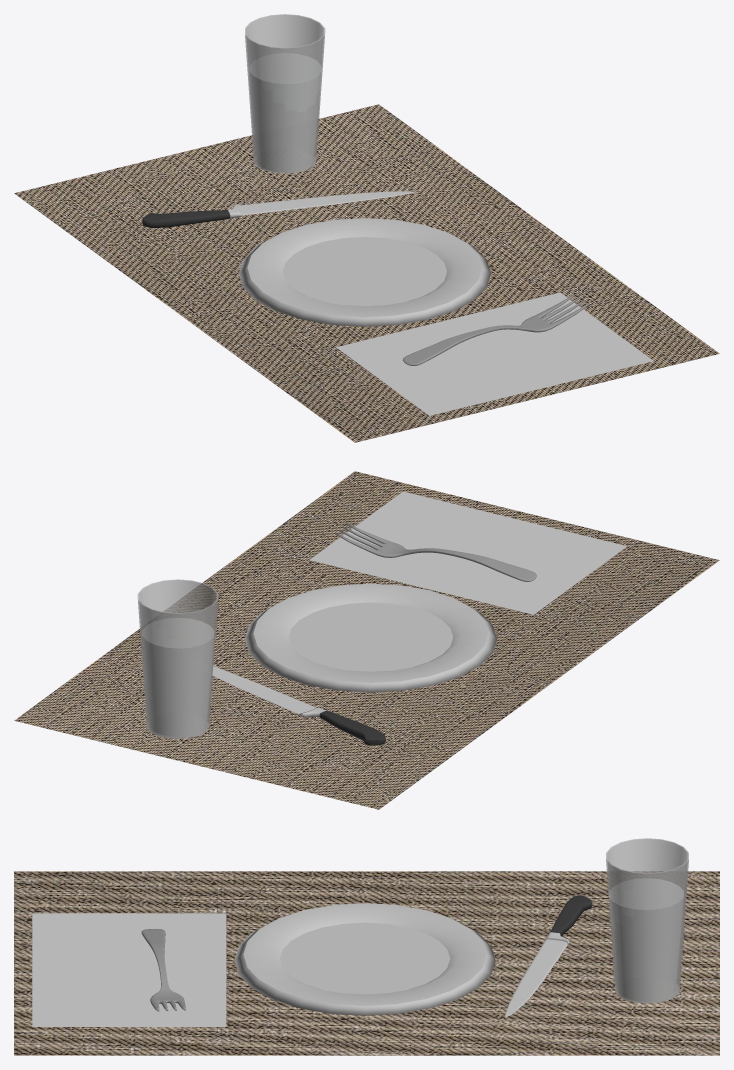
File: stolovie pribori.fbx
3 renders of one model, top to bottom at view 1: azimuth 30°, elevation 25°; view 2: azimuth 150°, elevation 25°; view 3: azimuth 270°, elevation 25°, orthographic. The views are drawn at different scales.
Parts seen in each view (by area): view 1: Mat, Dish, Towel, Glass, Knife, Fork; view 2: Mat, Dish, Towel, Glass, Knife, Fork; view 3: Mat, Dish, Towel, Glass, Knife, Fork.
Boxes of the visible parts, x1,y1,x2,y2 form: Mat: (14,104,719,442); Dish: (239,218,490,326); Towel: (336,292,653,415); Glass: (245,14,325,173); Knife: (142,191,415,227); Fork: (403,294,589,365); Mat: (14,471,719,809); Dish: (245,583,496,692); Towel: (310,491,627,614); Glass: (137,579,217,738); Knife: (212,666,385,745); Fork: (335,523,536,581); Mat: (14,871,719,1055); Dish: (234,903,495,1015); Towel: (32,913,226,1026); Glass: (606,838,688,1003); Knife: (505,895,592,1017); Fork: (141,928,186,1011).
Size of the model in its own units: 160 by 54.42 by 259.
